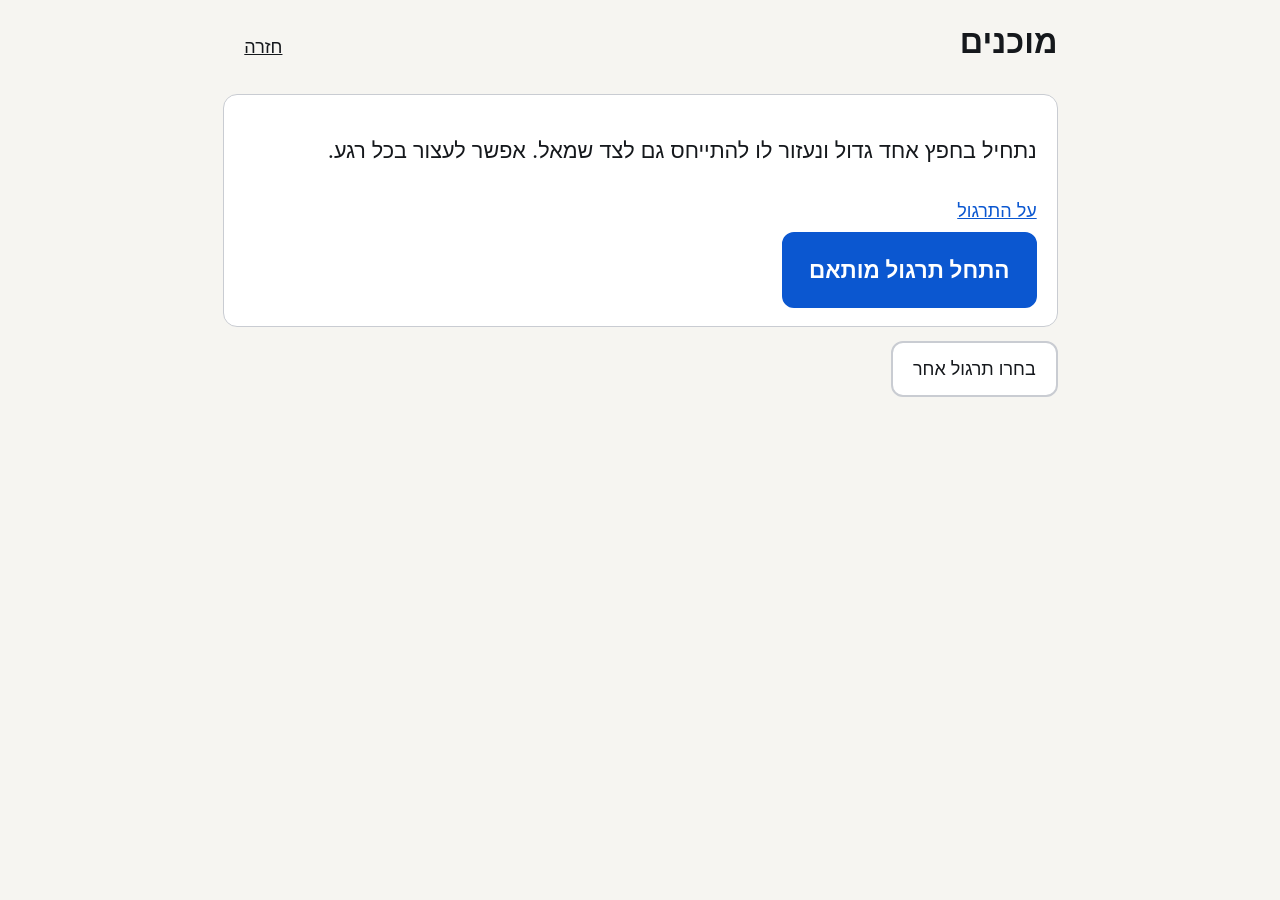
Test: family flow through the UI › caregiver completes a session without any patient tap/speech/typing; target is physically left under RTL
Earlier steps of the test are not shown.
Later steps or results of the test are not shown.
Expected: the text with test id "start-sentence" shows "נתחיל בחפץ אחד גדול", [328, 137, 1037, 163]
Click the button with test id "start-adapted".
click(909, 270)  # box [782, 232, 1037, 308]
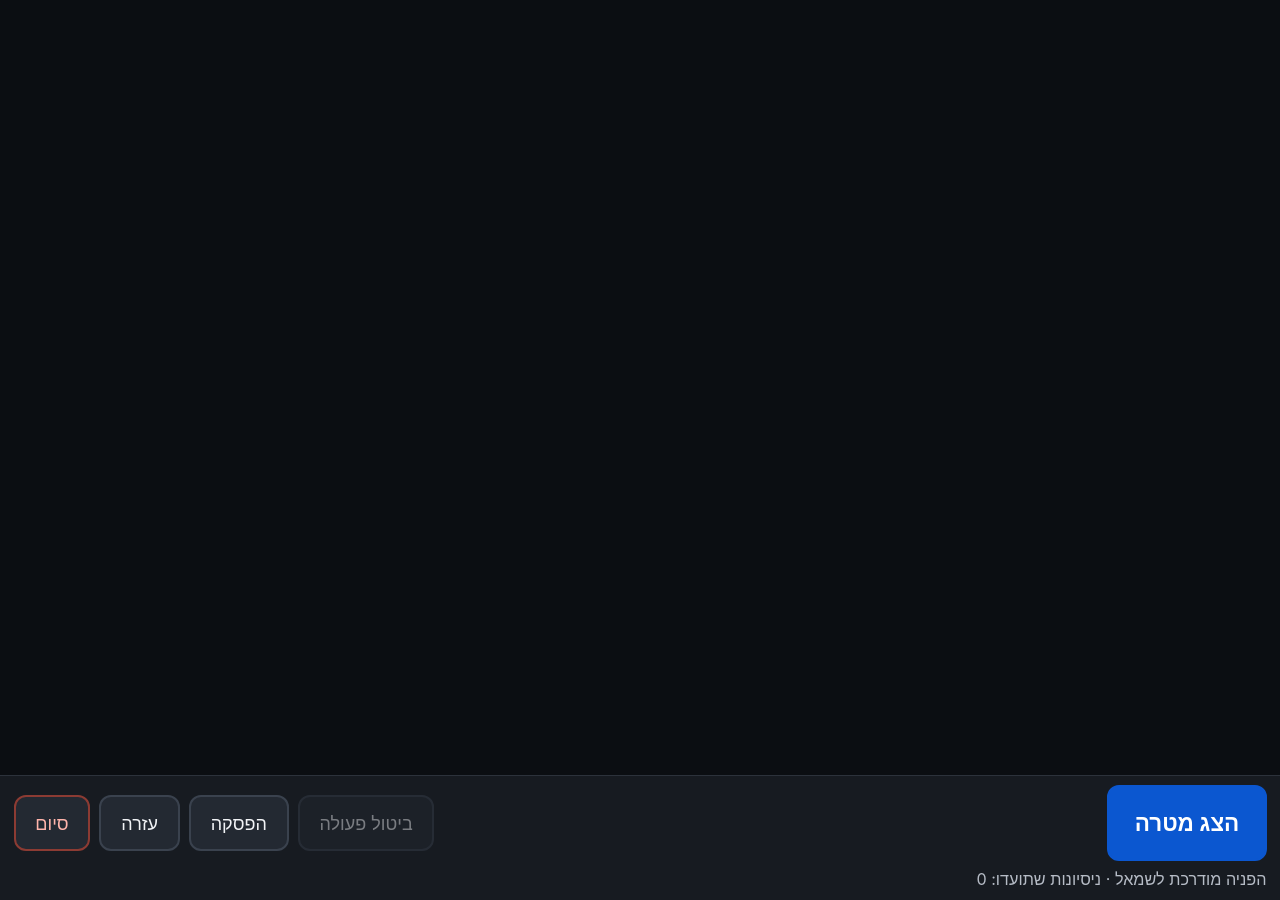
Expected: the button with test id "show-target" is shown
Click the button with test id "show-target".
click(1187, 823)  # box [1108, 785, 1266, 861]
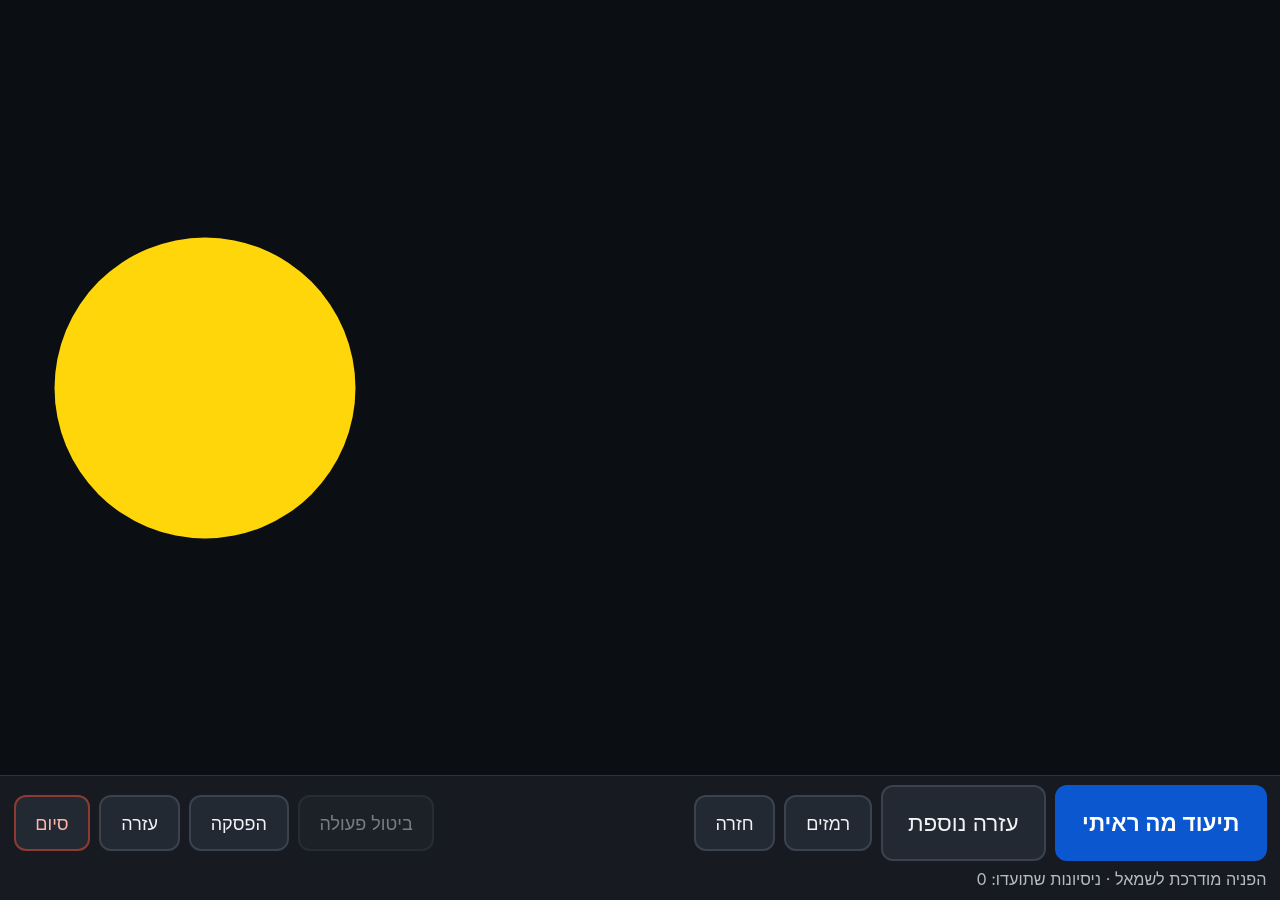
Expected: the element with test id "patient-stage" is empty
Click the button with test id "more-help".
click(963, 823)  # box [881, 785, 1046, 861]
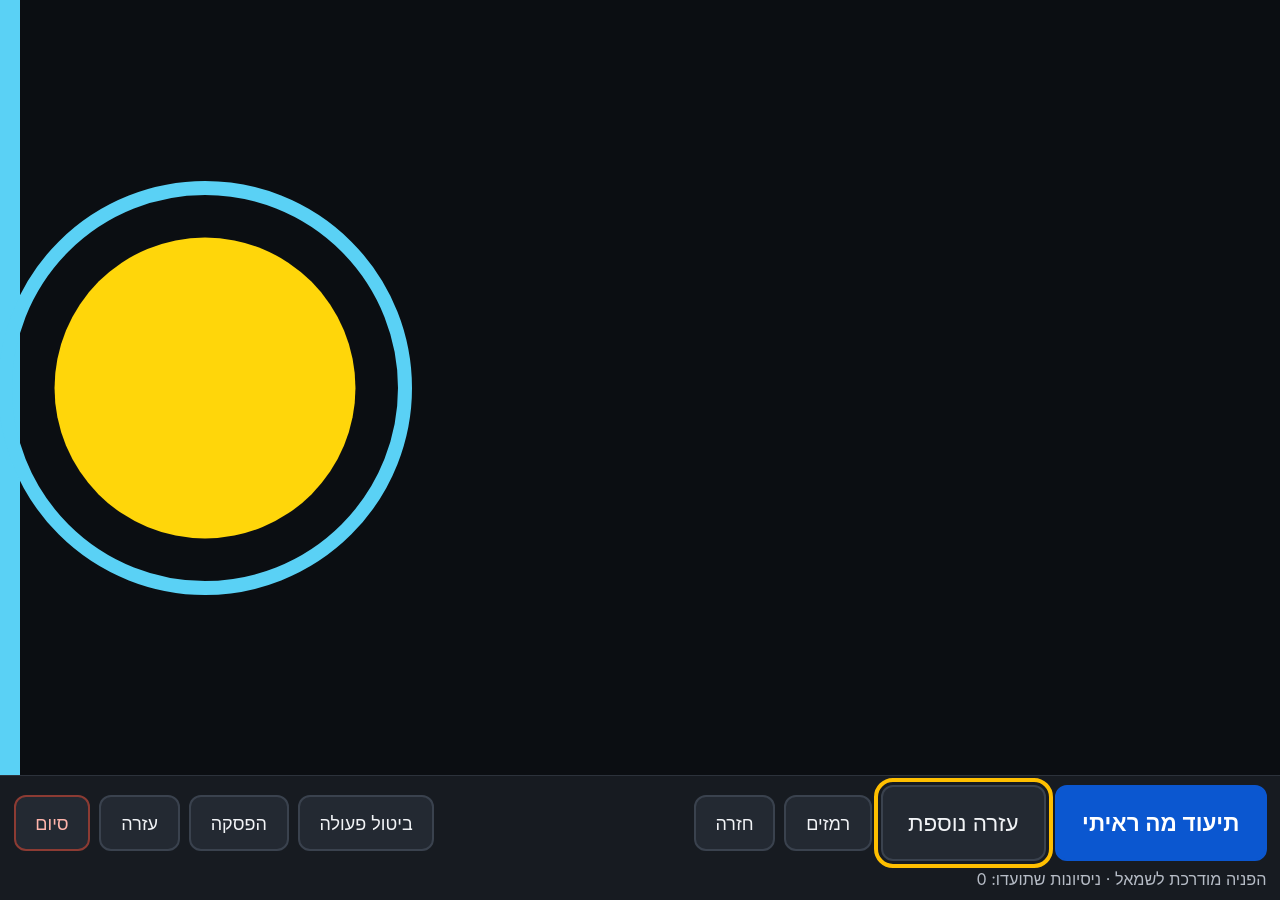
Click the button with test id "pause".
click(239, 823)  # box [189, 795, 289, 851]
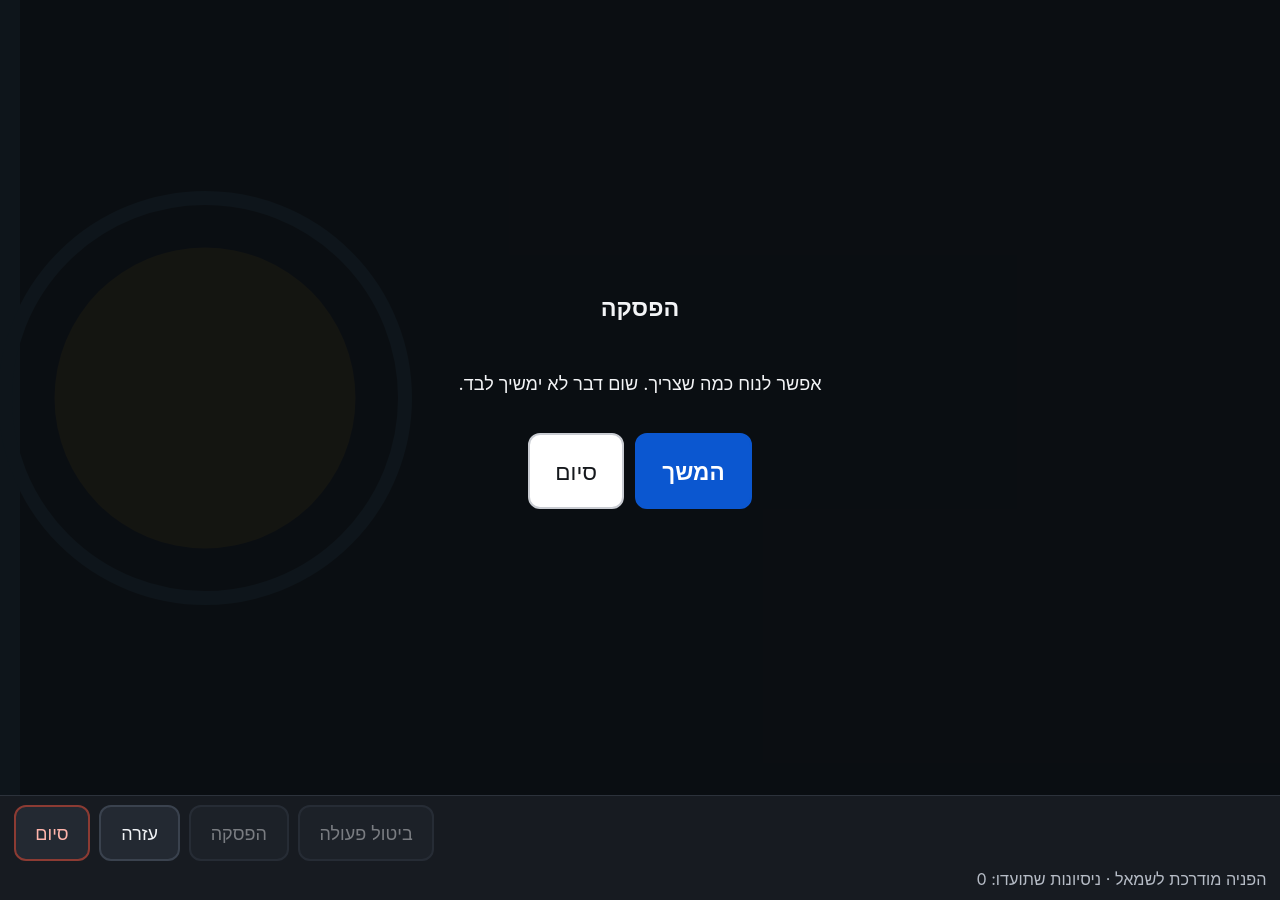
Expected: the dialog with test id "pause-overlay" is shown
Click the button with test id "resume".
click(694, 472)  # box [635, 434, 752, 510]
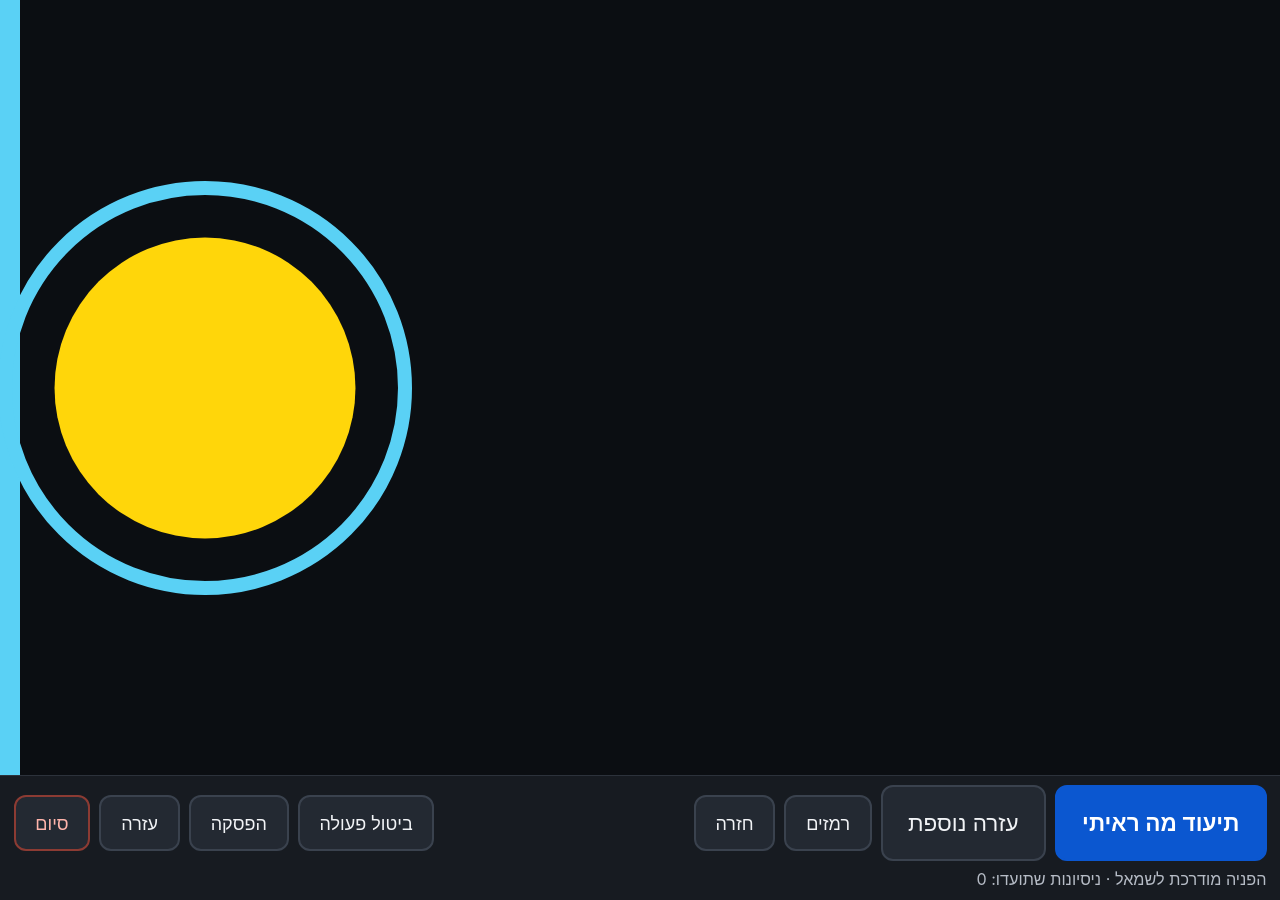
Click the button with test id "record".
click(1161, 823)  # box [1055, 785, 1266, 861]
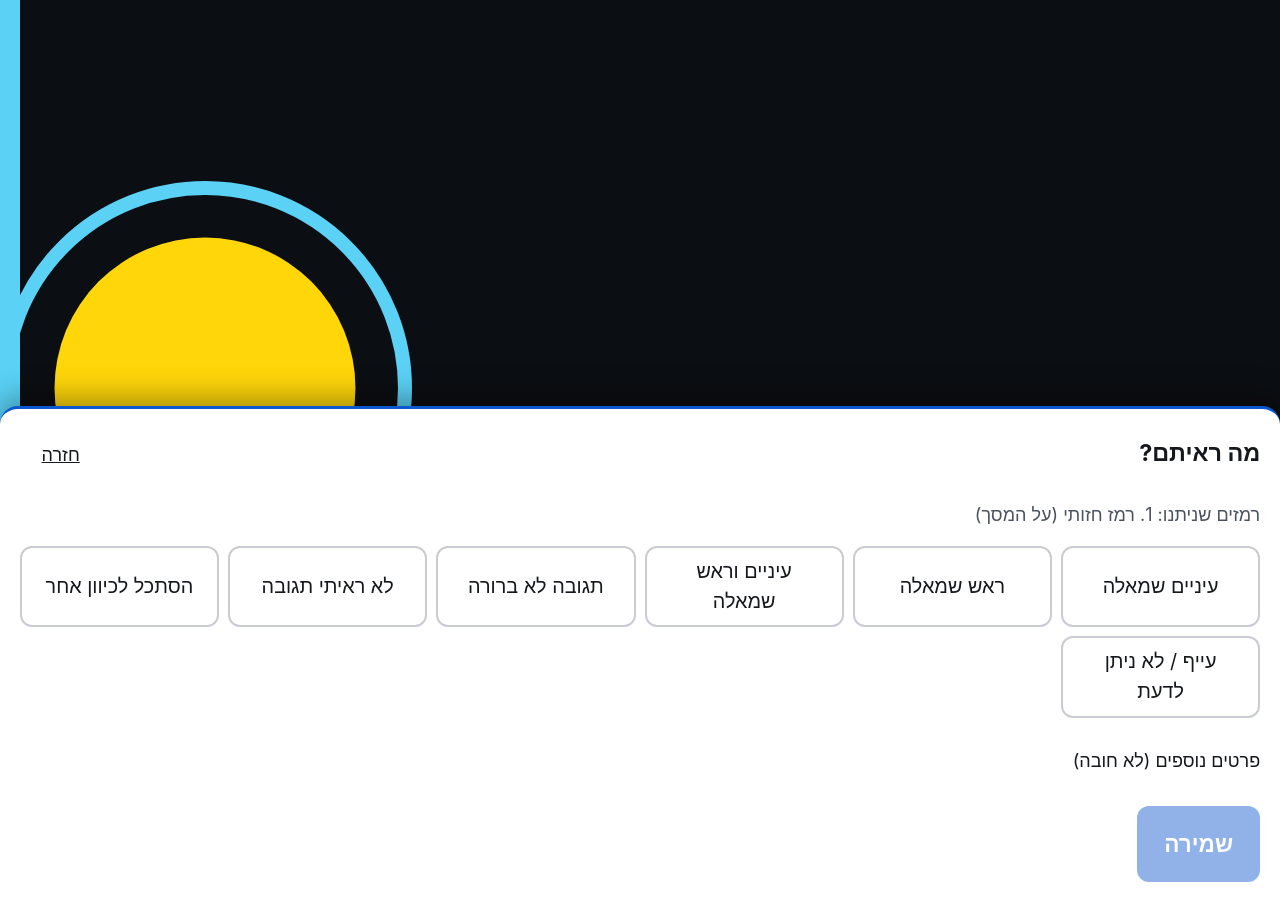
Expected: the text with test id "cue-summary" shows "רמז חזותי", [975, 504, 1260, 525]
